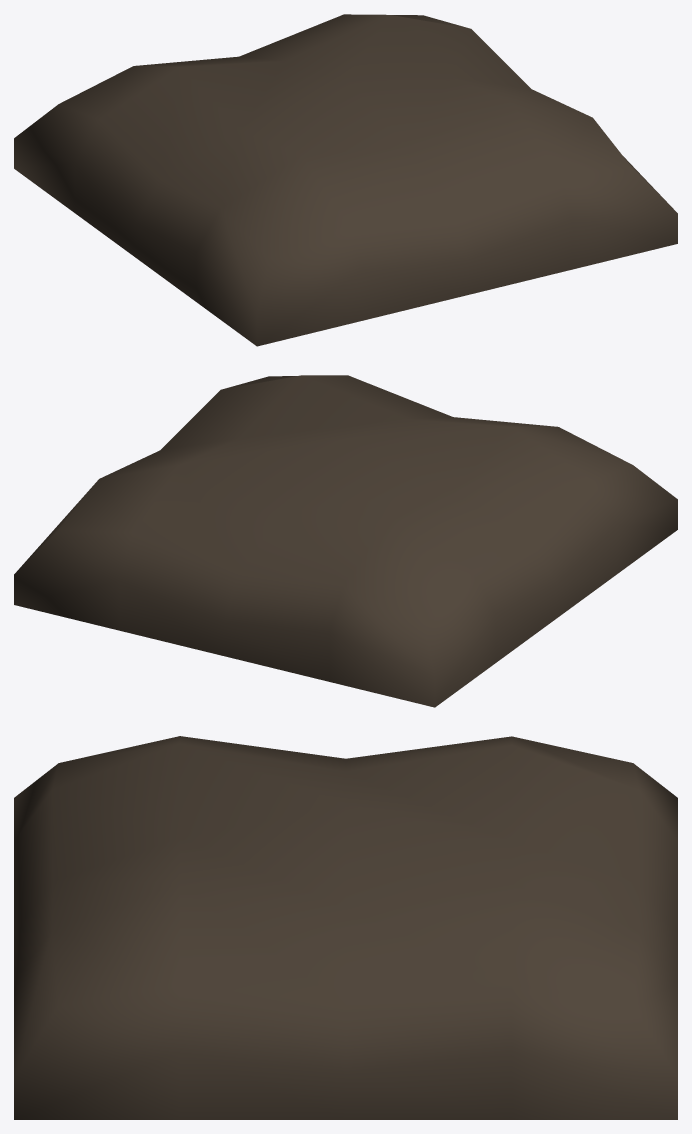
File: mulchTile.fbx
The picture shows the model from 3 angles, top to bottom: view 1: azimuth 30°, elevation 25°; view 2: azimuth 150°, elevation 25°; view 3: azimuth 270°, elevation 25°; orthographic projection. The views are drawn at different scales.
Parts seen in each view (by area): view 1: mulchTile; view 2: mulchTile; view 3: mulchTile.
Boxes of the visible parts, <box> form: mulchTile: <box>14,14,677,346</box>; mulchTile: <box>14,375,677,707</box>; mulchTile: <box>14,736,677,1119</box>.
Size of the model in its own units: 100 by 29.14 by 100.
